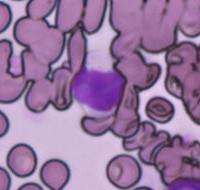L: (70, 66, 125, 116)
